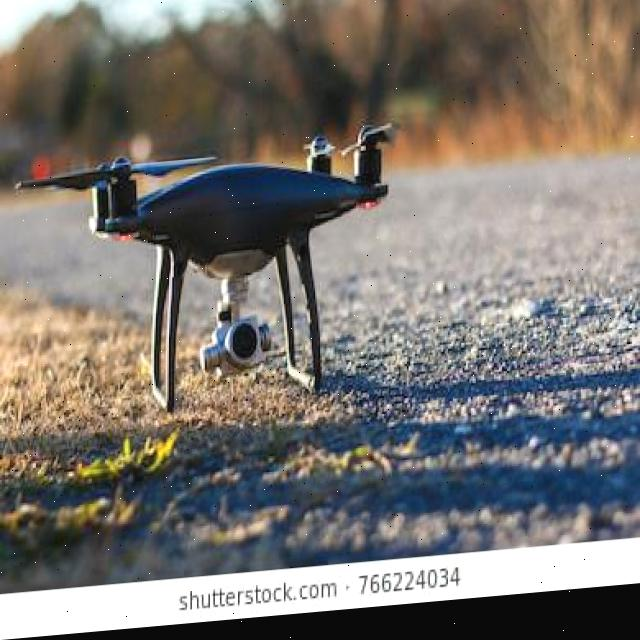drone: (0, 73, 431, 443)
